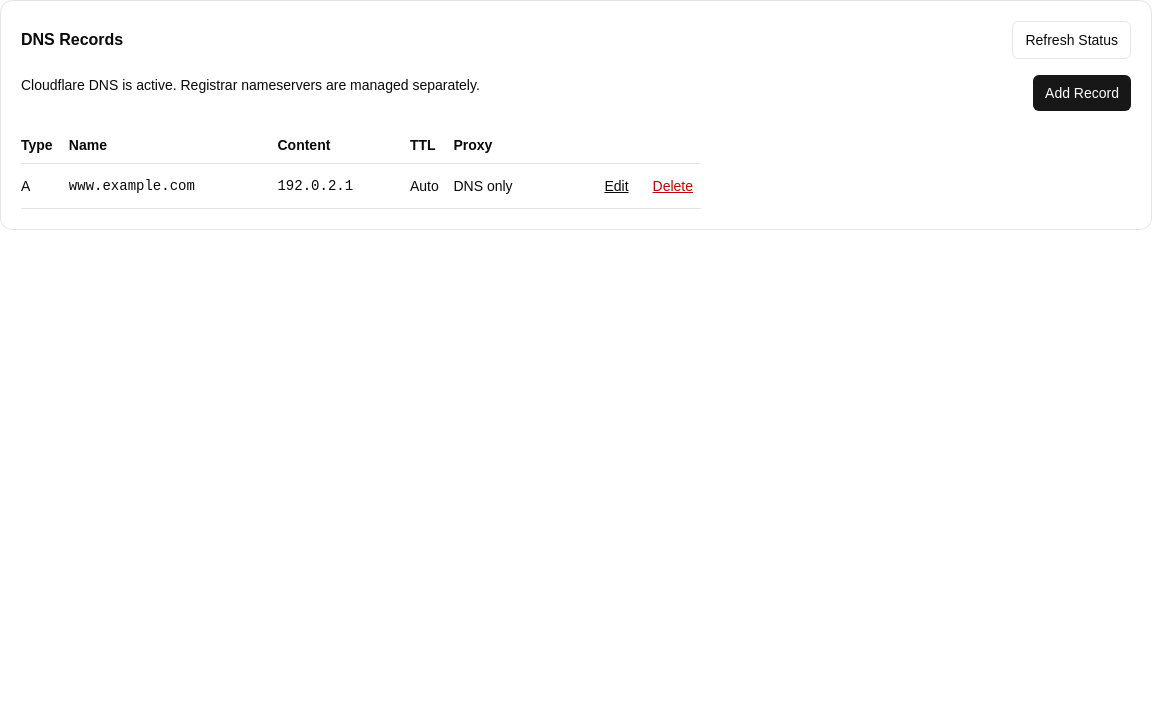
Test case: DNS management states › shows active records, forms, and delete confirmation
Expected: the text "192.0.2.1" is shown, [278, 164, 410, 208]
Click the button "Add Record" at (1082, 93), box [1033, 75, 1131, 111]
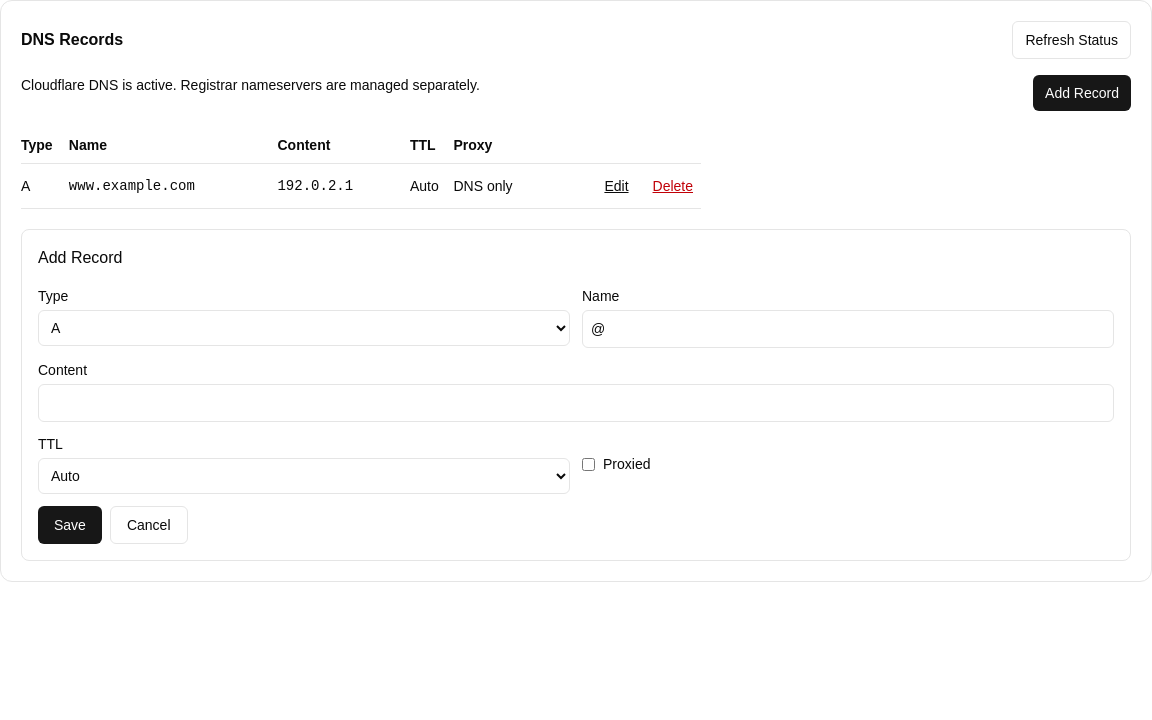
Result: the heading "Add Record" is shown at [38, 249, 122, 266]
Click the button "Cancel" at (149, 525), box [110, 506, 188, 544]
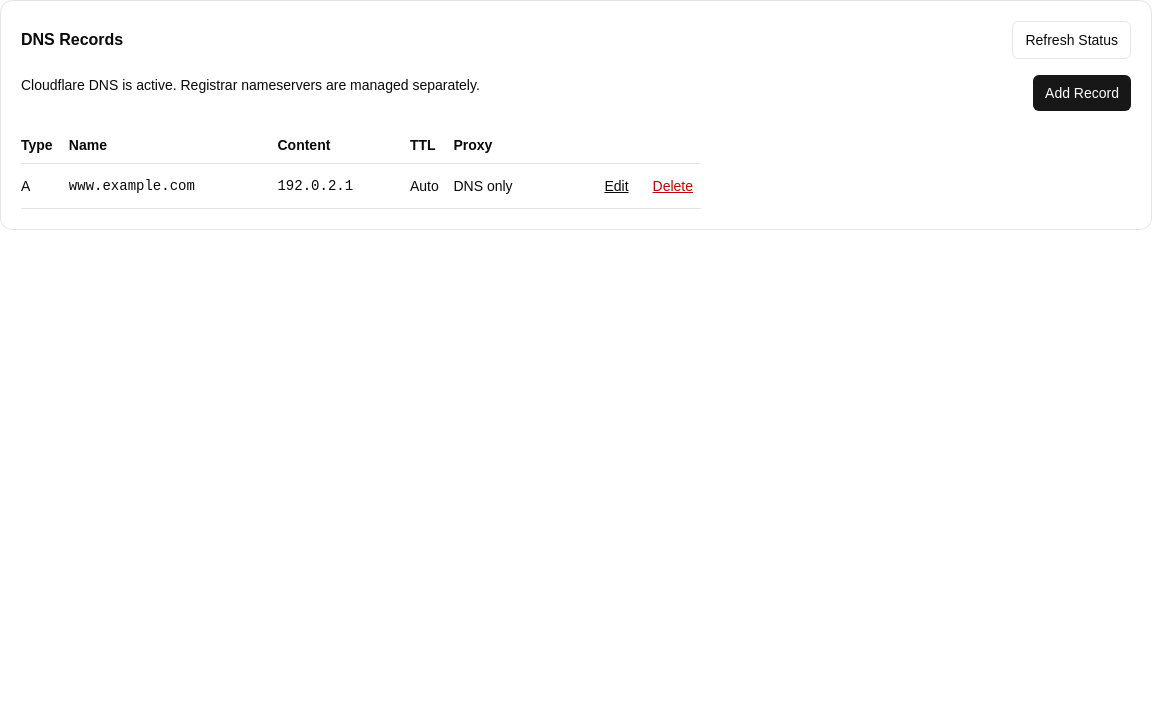
Click the button "Delete" at (673, 186), box [644, 164, 701, 208]
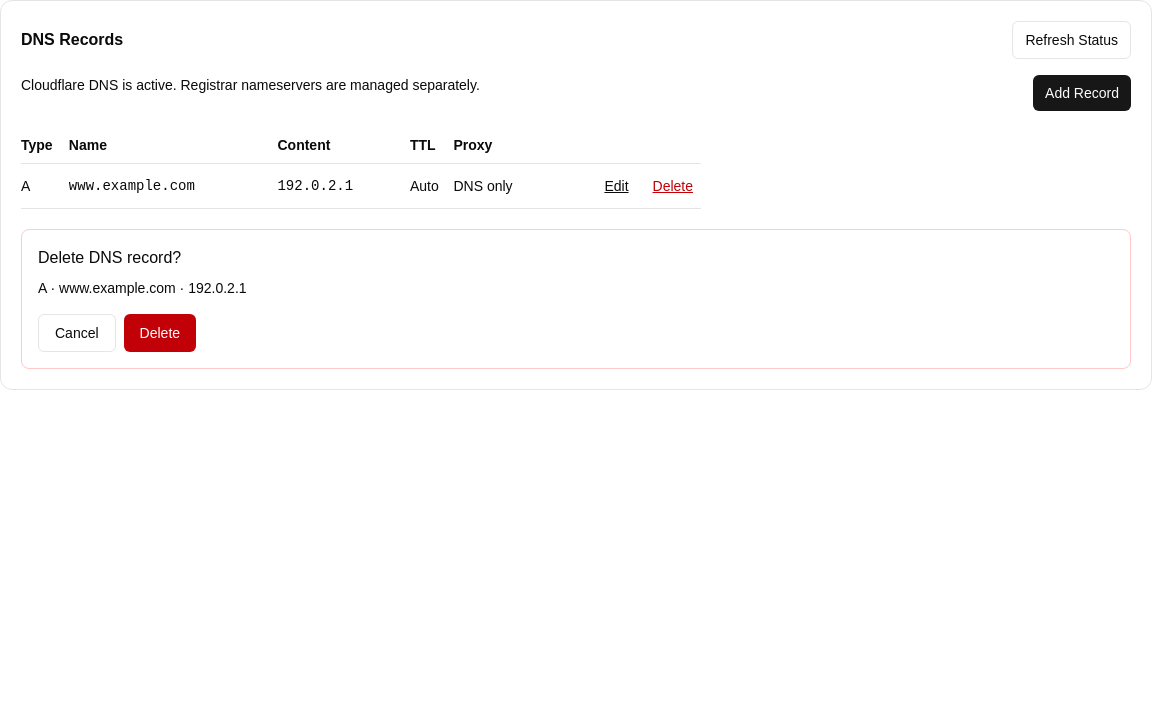
Result: the dialog "Delete DNS record" is shown at [21, 229, 1131, 369]
